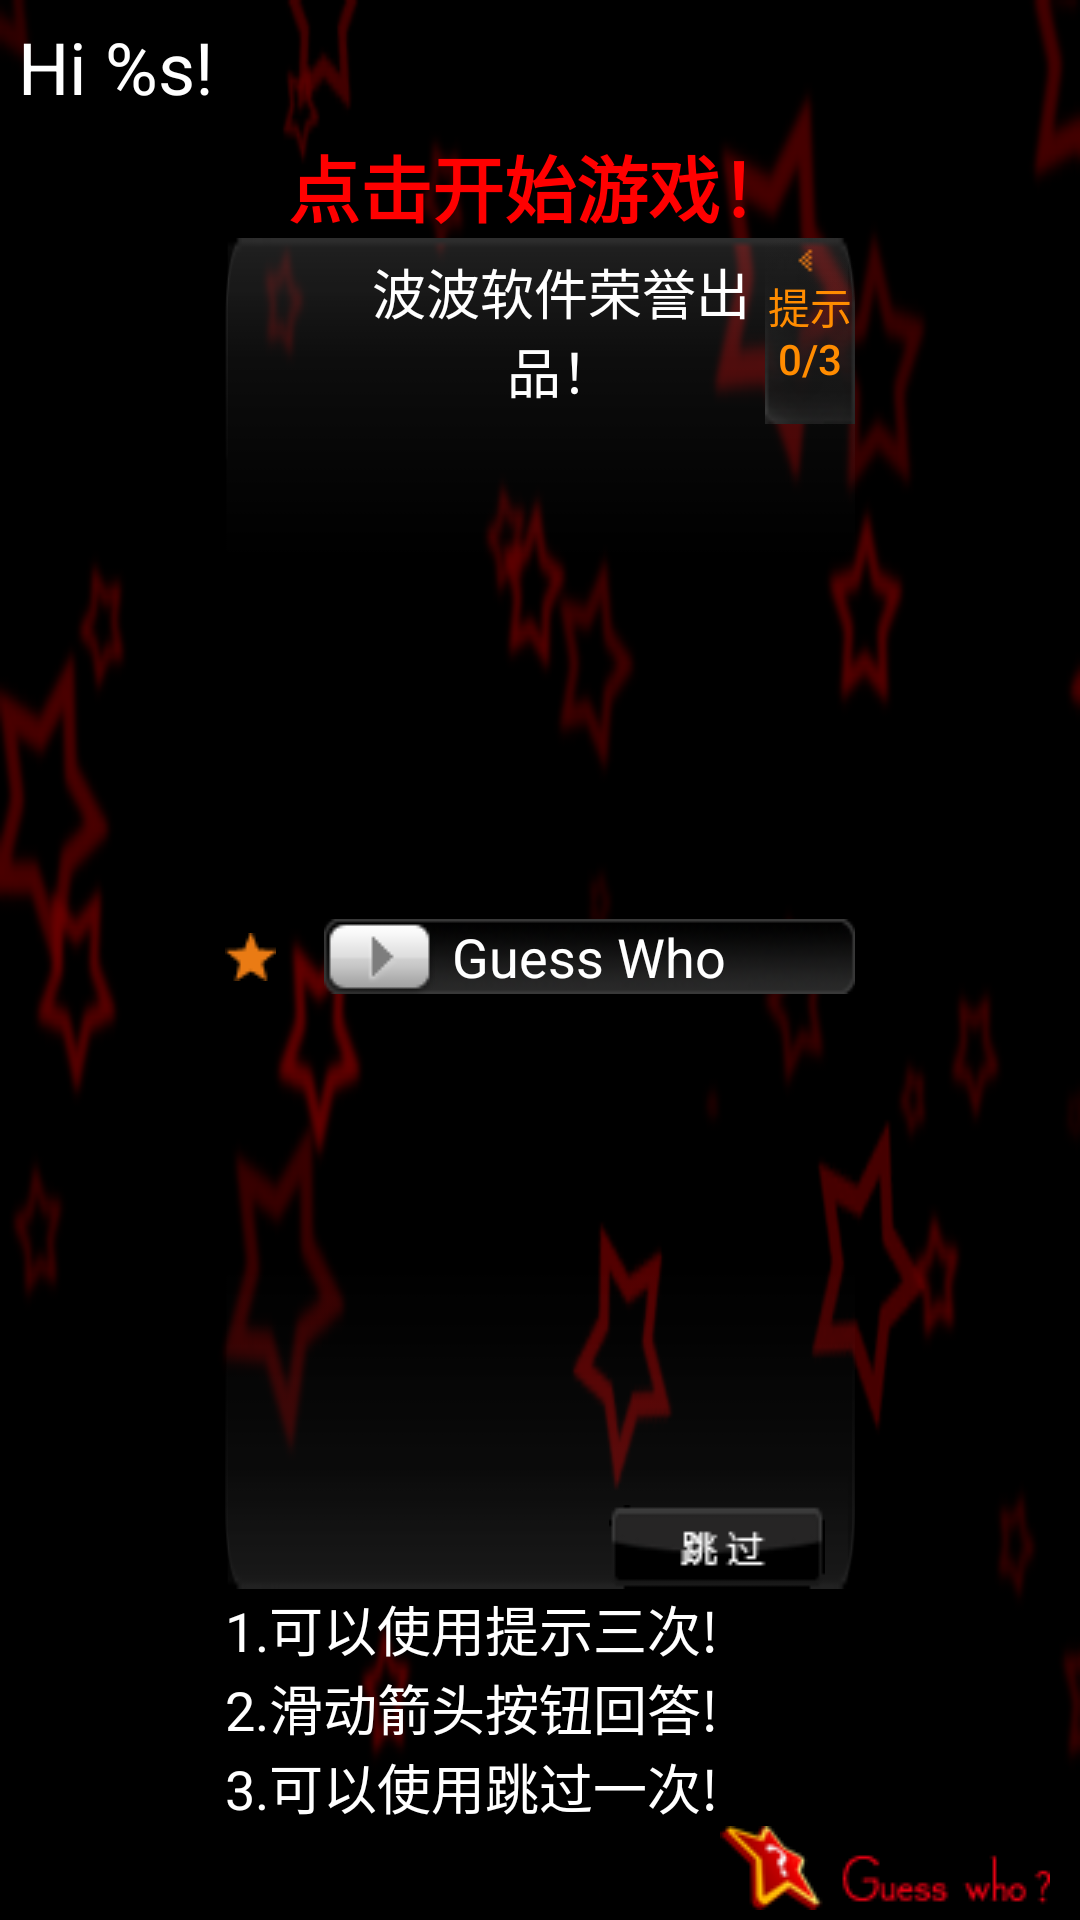

Icon bounding boxes for this 1080*1920 phone screenshot, format [x1=x1, y1=y1, x2=x2, y2=y2]:
star bigger: [x1=225, y1=933, x2=276, y2=981]
